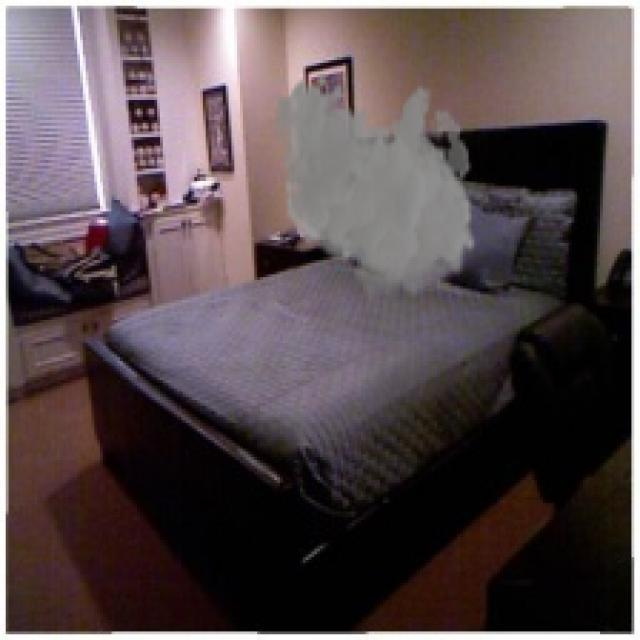Smoke: (274, 72, 477, 308)
